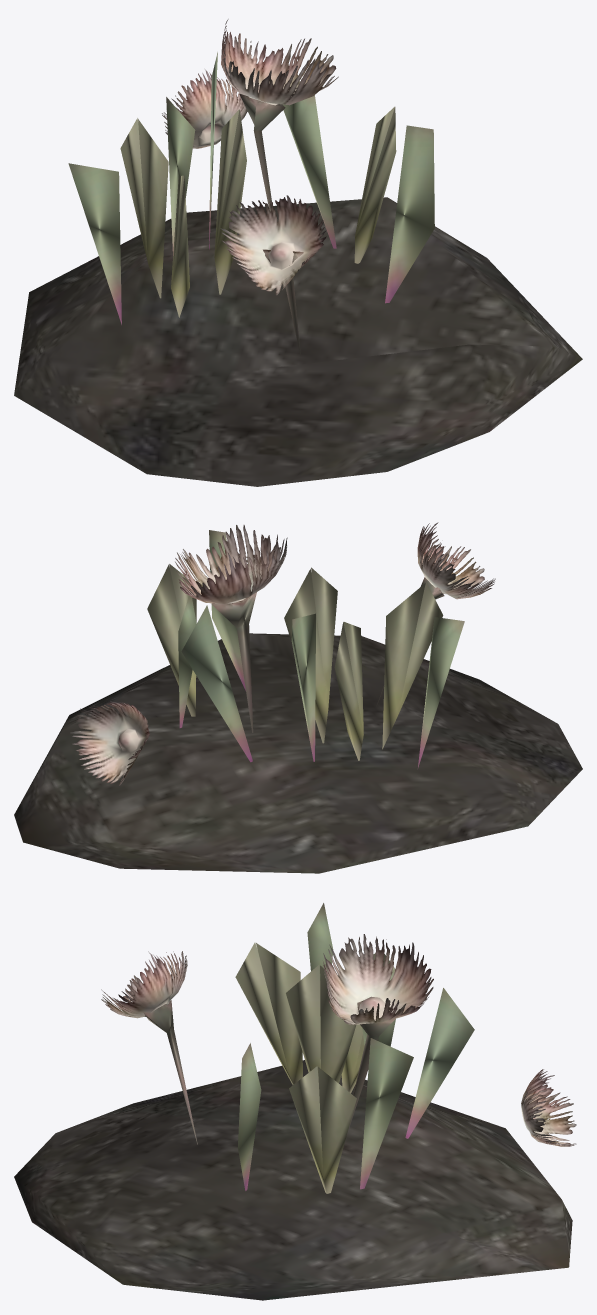
File: succulent.glb
The picture shows the model from 3 angles, top to bottom: view 1: azimuth 30°, elevation 25°; view 2: azimuth 150°, elevation 25°; view 3: azimuth 270°, elevation 25°; orthographic projection. The views are drawn at different scales.
Parts seen in each view (by area): view 1: lod1; view 2: lod1; view 3: lod1.
Boxes of the visible parts, x1,y1,x2,y2 form: lod1: (14, 19, 582, 486); lod1: (14, 522, 582, 873); lod1: (14, 903, 576, 1300).
Size of the model in its own units: 0.5127 by 0.3 by 0.561.
2 materials, 2 textured.
